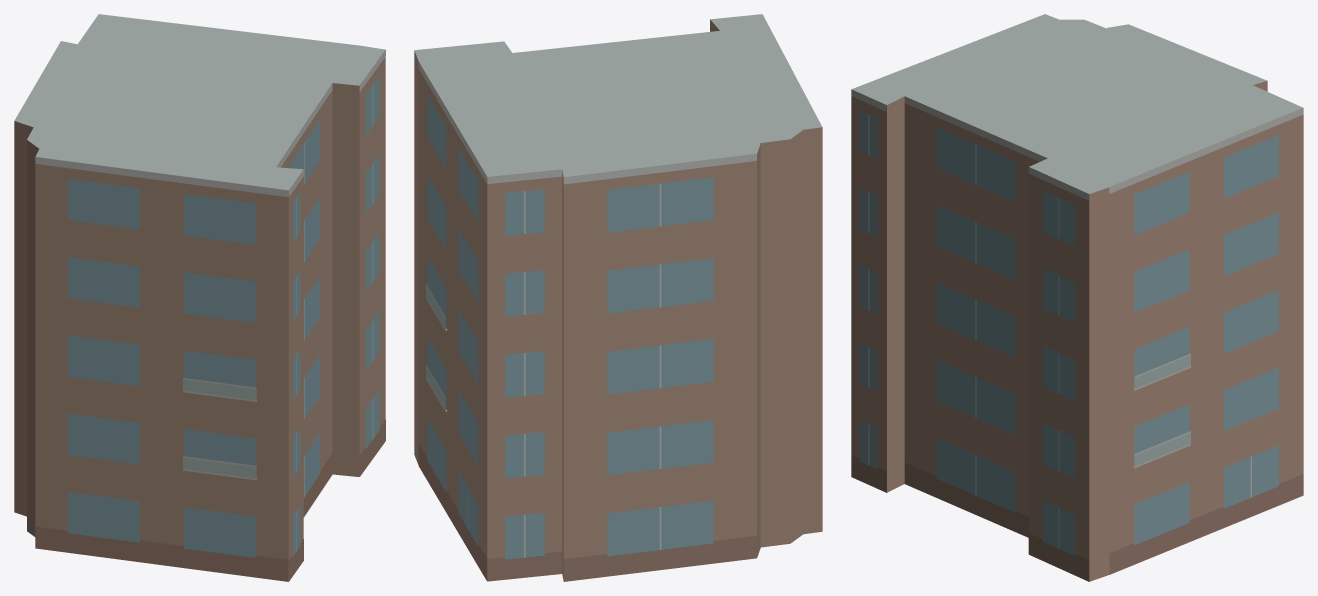
The model's file is survey-upis-32731356.glb.
The picture shows the model from 3 angles, left to right: view 1: azimuth 30°, elevation 25°; view 2: azimuth 150°, elevation 25°; view 3: azimuth 270°, elevation 25°; orthographic projection. The views are drawn at different scales.
Visible parts, largest first — view 1: survey-upis-32731356.tmp; view 2: survey-upis-32731356.tmp; view 3: survey-upis-32731356.tmp.
Boxes of the visible parts, x1,y1,x2,y2 form: survey-upis-32731356.tmp: (14, 14, 385, 581); survey-upis-32731356.tmp: (414, 14, 822, 581); survey-upis-32731356.tmp: (851, 14, 1303, 581).
Bounding box in the file's own units: 13.79 × 13.83 × 14.62.
